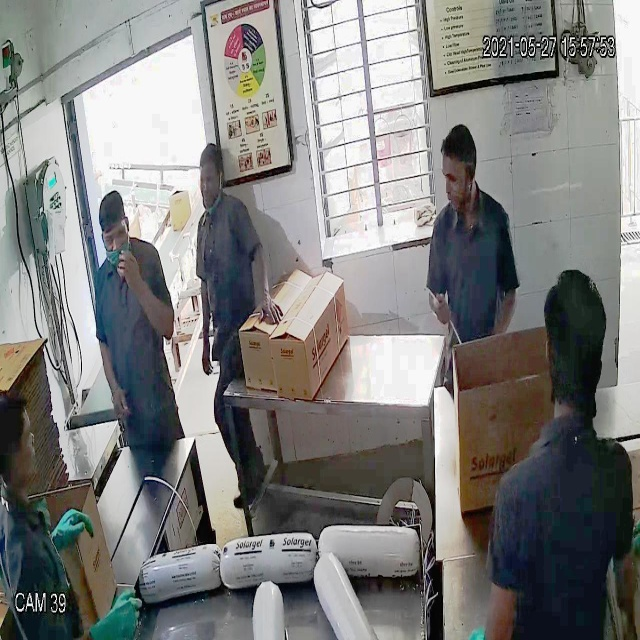Sin_gafas: (439, 161, 472, 193), (99, 222, 132, 252)
